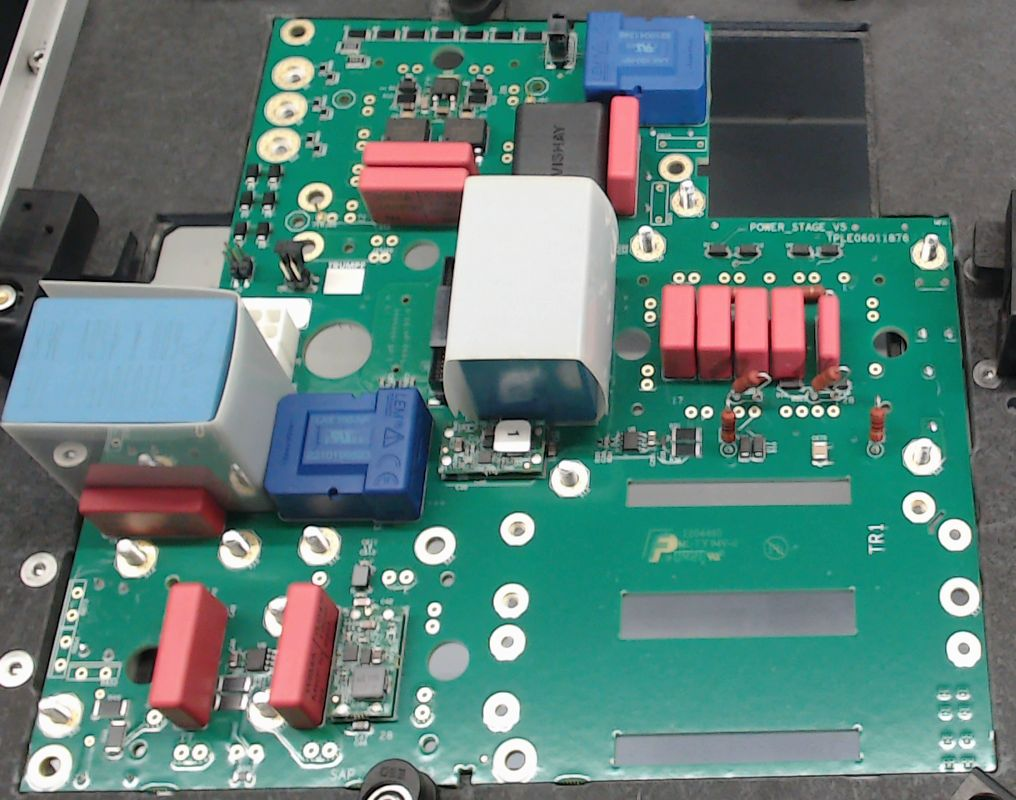comp1: (266, 386, 436, 523), (582, 12, 706, 124)
comp2: (148, 582, 223, 733), (269, 581, 335, 726), (77, 488, 225, 541), (357, 169, 470, 227), (608, 98, 641, 217), (696, 283, 733, 382), (660, 282, 696, 380), (734, 285, 769, 382), (772, 285, 805, 381), (362, 139, 477, 166), (817, 294, 841, 376)
comp3: (513, 103, 607, 180)
comp4: (1, 277, 300, 520), (443, 176, 622, 428)
